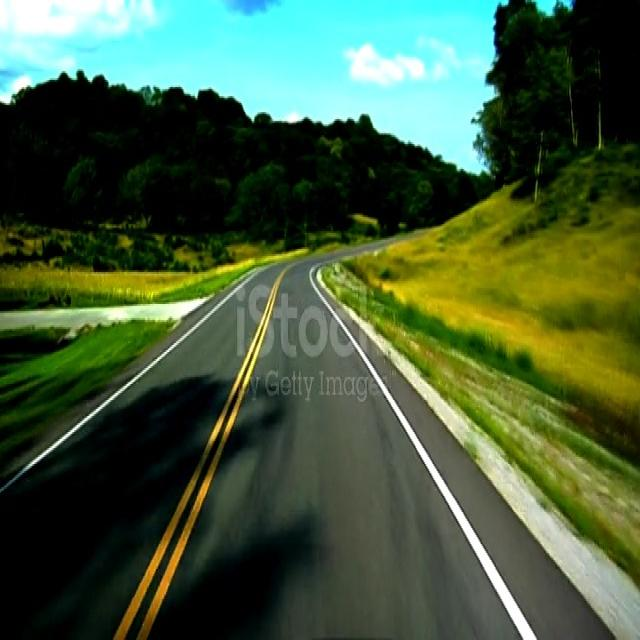lane: (113, 264, 290, 636), (2, 272, 258, 494), (346, 332, 532, 637)
road: (15, 253, 614, 638)
